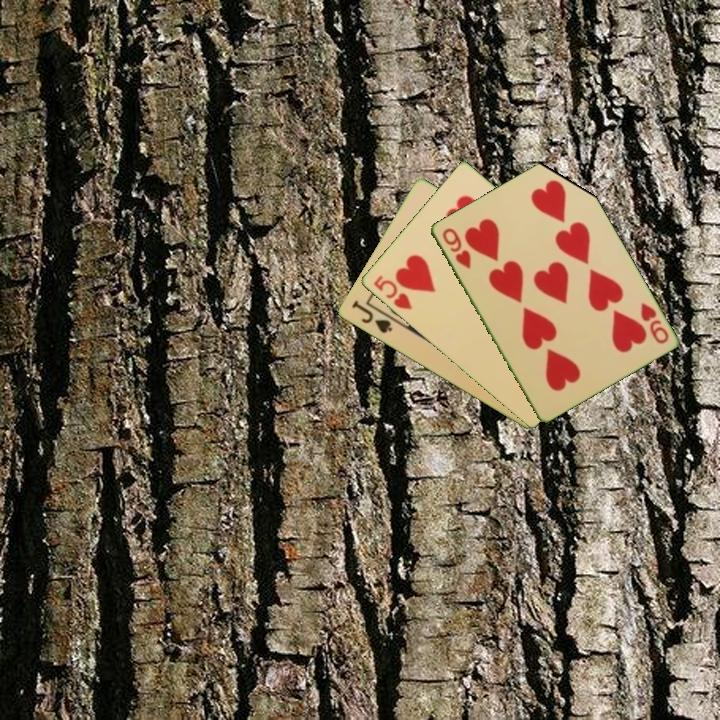5h: (370, 271, 414, 313)
9h: (438, 224, 474, 272), (637, 299, 672, 347)
Js: (348, 297, 395, 336)
